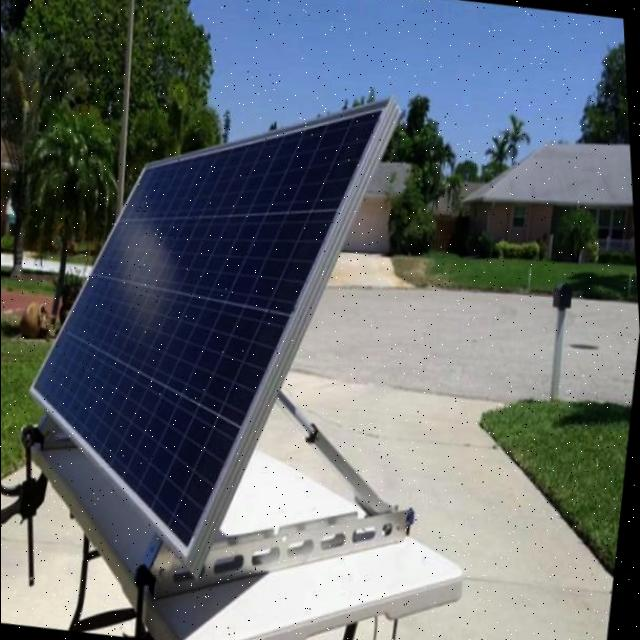Normal Solar Panel: (0, 51, 414, 586)
